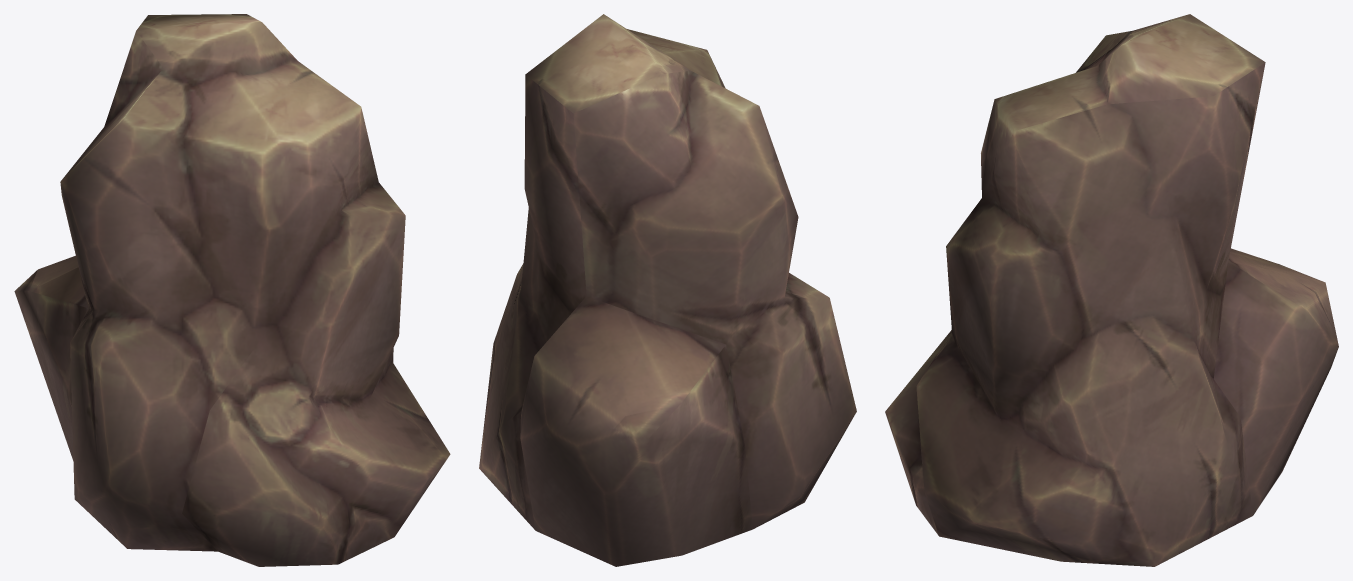
The model's file is Stone_Large_Prop_3.fbx.
3 renders of one model, left to right at view 1: azimuth 30°, elevation 25°; view 2: azimuth 150°, elevation 25°; view 3: azimuth 270°, elevation 25°, orthographic.
Parts seen in each view (by area): view 1: Rock_Large_Prop_3; view 2: Rock_Large_Prop_3; view 3: Rock_Large_Prop_3.
Part boxes in pixels (x1,y1,x2,y2): Rock_Large_Prop_3: (14,14,450,566); Rock_Large_Prop_3: (479,14,856,566); Rock_Large_Prop_3: (885,14,1338,566).
Size of the model in its own units: 4.13 by 5.7 by 4.99.
